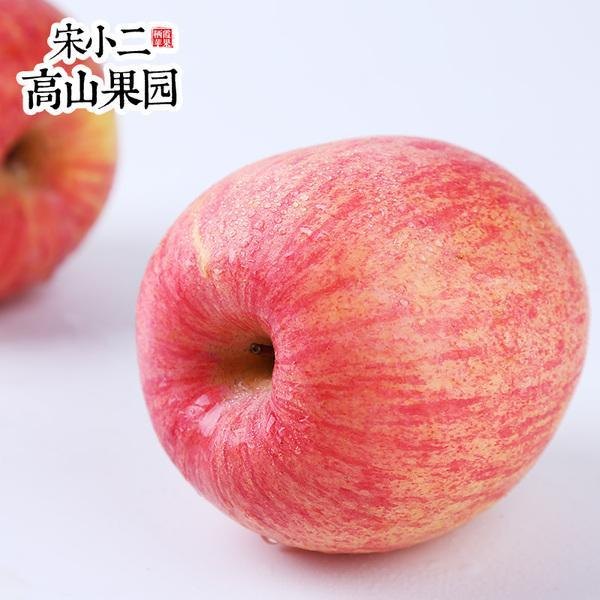apple: (130, 130, 590, 554)
